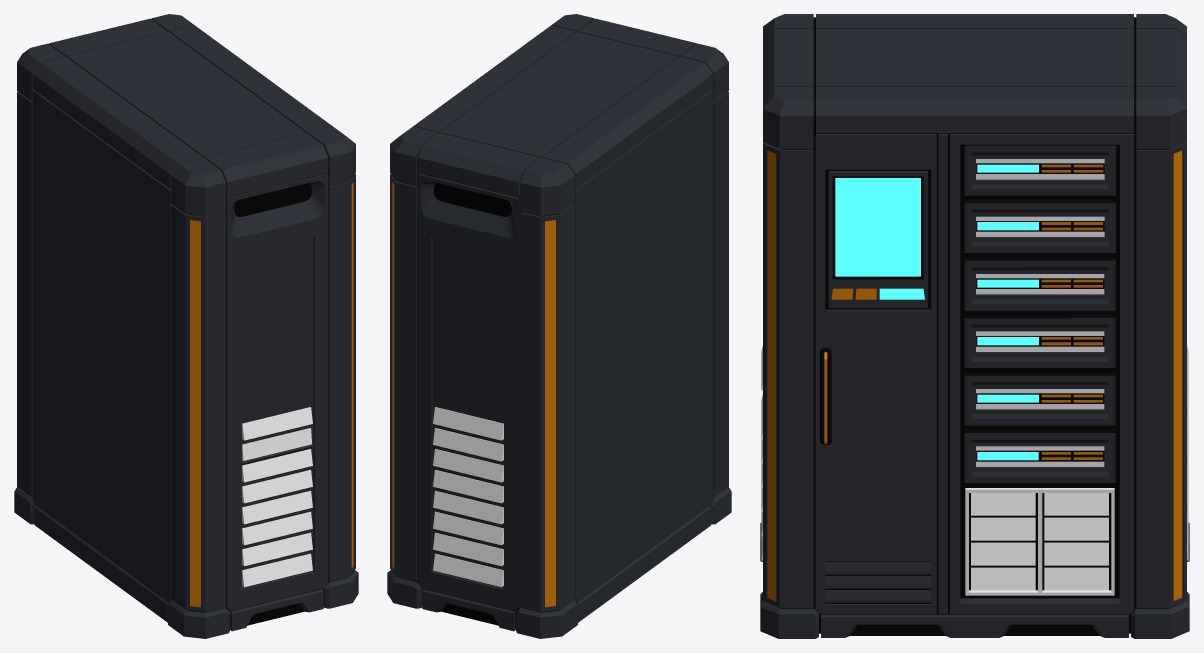
The model's file is server_rack.glb.
3 views of the same model, side by side, from view 1: azimuth 30°, elevation 25°; view 2: azimuth 150°, elevation 25°; view 3: azimuth 270°, elevation 25° (orthographic). The views are drawn at different scales.
Visible parts, largest first — view 1: SM_Data_Server_Rack; view 2: SM_Data_Server_Rack; view 3: SM_Data_Server_Rack.
Part boxes in pixels (left/top/right/bottom): SM_Data_Server_Rack: left=14, top=14, right=358, bottom=638; SM_Data_Server_Rack: left=387, top=14, right=731, bottom=638; SM_Data_Server_Rack: left=760, top=14, right=1189, bottom=638.
Size of the model in its own units: 0.7438 by 1.8 by 1.32.
